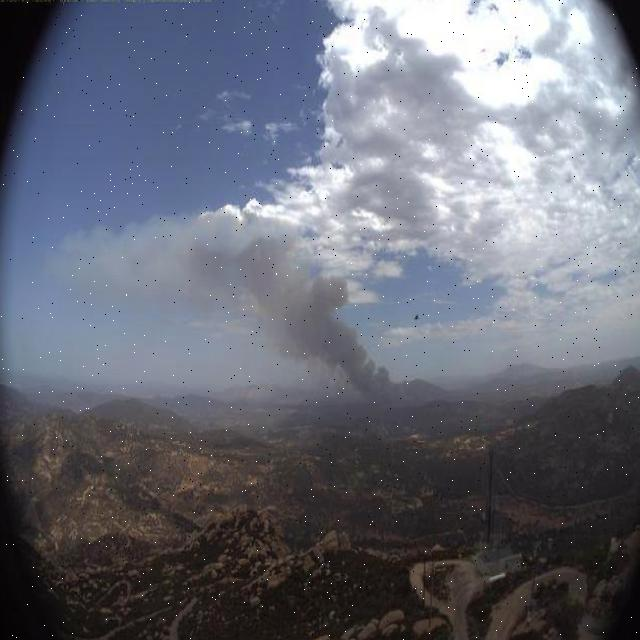smoke: (122, 215, 419, 434)
